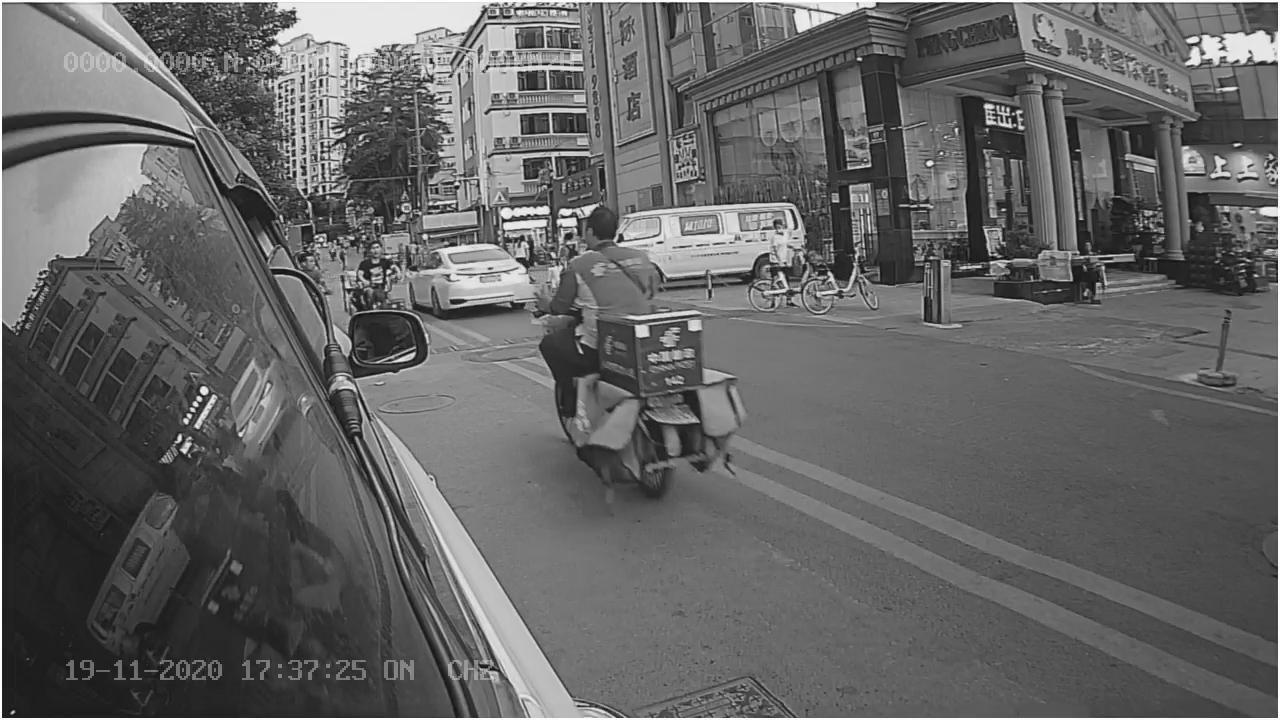person: (553, 207, 662, 304)
